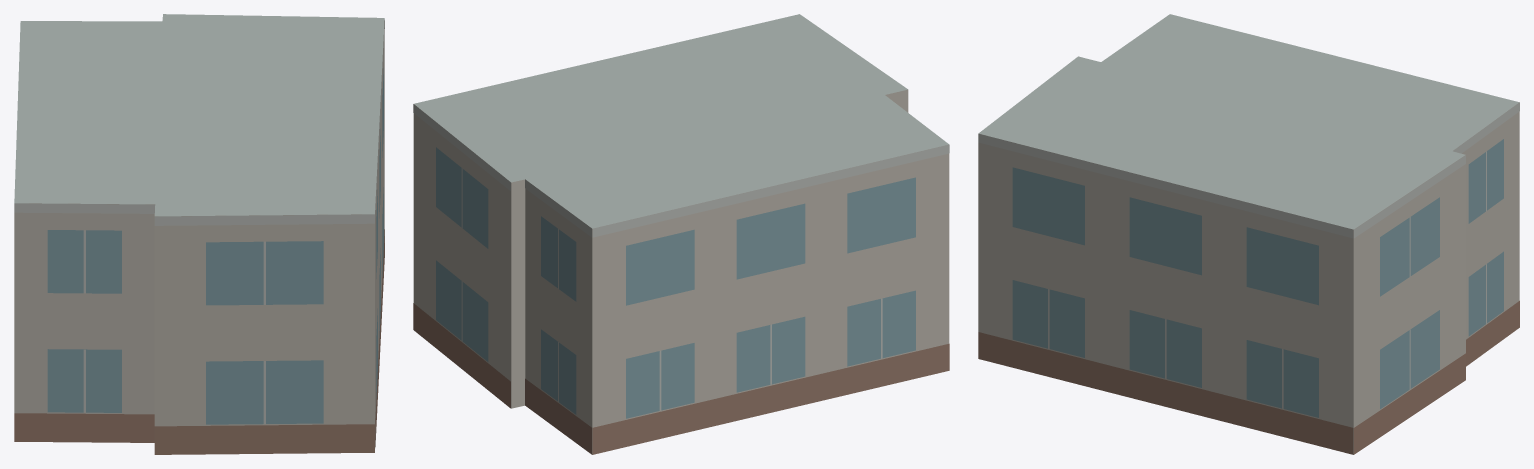
The model's file is survey-upis-32653302.glb.
3 views of the same model, side by side, from view 1: azimuth 30°, elevation 25°; view 2: azimuth 150°, elevation 25°; view 3: azimuth 270°, elevation 25° (orthographic). The views are drawn at different scales.
Parts seen in each view (by area): view 1: survey-upis-32653302.tmp; view 2: survey-upis-32653302.tmp; view 3: survey-upis-32653302.tmp.
Part boxes in pixels (box(x1,y1,x2,y2)): survey-upis-32653302.tmp: box(14, 14, 384, 454); survey-upis-32653302.tmp: box(413, 14, 949, 454); survey-upis-32653302.tmp: box(978, 14, 1519, 454).
Size of the model in its own units: 12.53 by 6.1 by 13.3.
